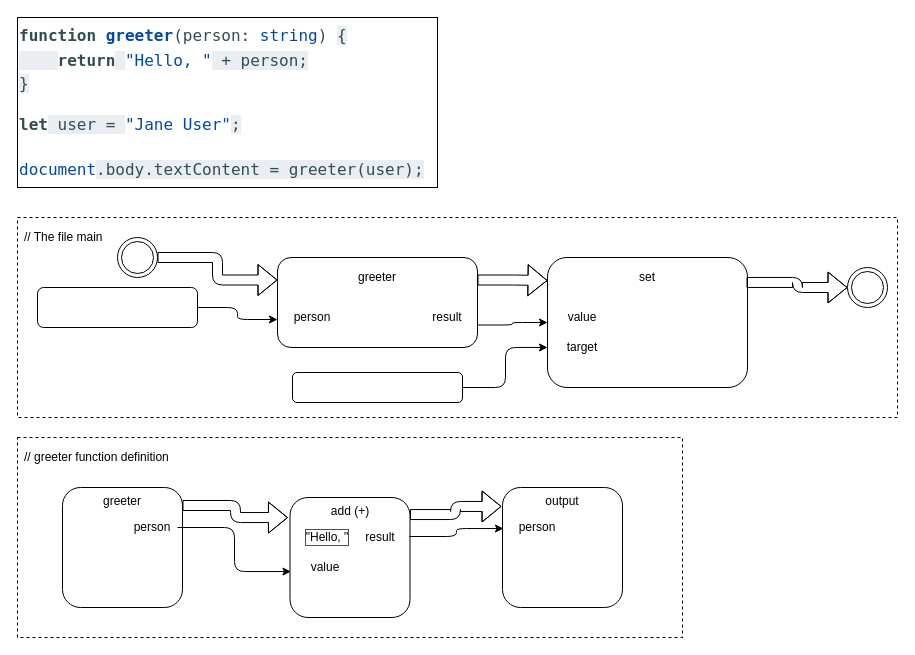
The diagram is 915 pixels wide and 655 high, and some of its shapes have lost their labels. Here are the shapes that lost their labels. From the top down, the centre of each, then its label:
point 117,307: user (local var with "Jane User")
point 377,387: document.body.textContent
